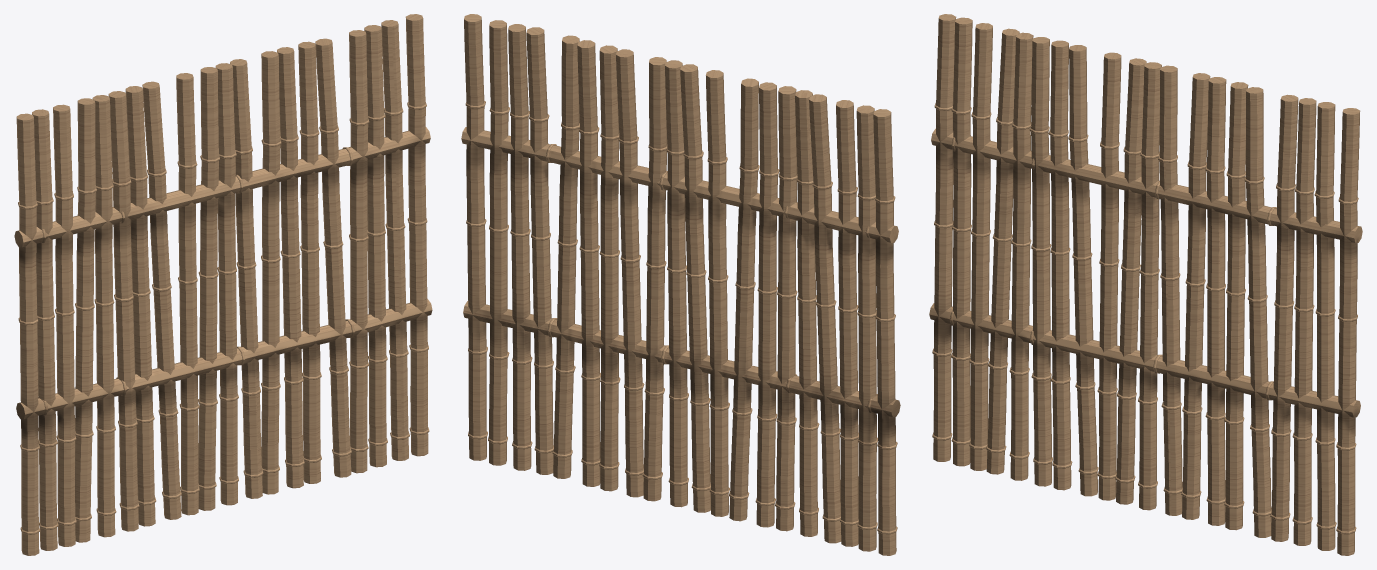
The model's file is Pagar.fbx.
3 renders of one model, left to right at view 1: azimuth 30°, elevation 25°; view 2: azimuth 150°, elevation 25°; view 3: azimuth 330°, elevation 25°, orthographic. The views are drawn at different scales.
Visible parts, largest first — view 1: Cylinder.023; view 2: Cylinder.023; view 3: Cylinder.023.
Part boxes in pixels (<box>): Cylinder.023: <box>14,14,432,555</box>; Cylinder.023: <box>461,14,900,555</box>; Cylinder.023: <box>929,14,1362,555</box>.
Bounding box in the file's own units: 221 × 222 × 18.05.
1 material, 1 textured.
